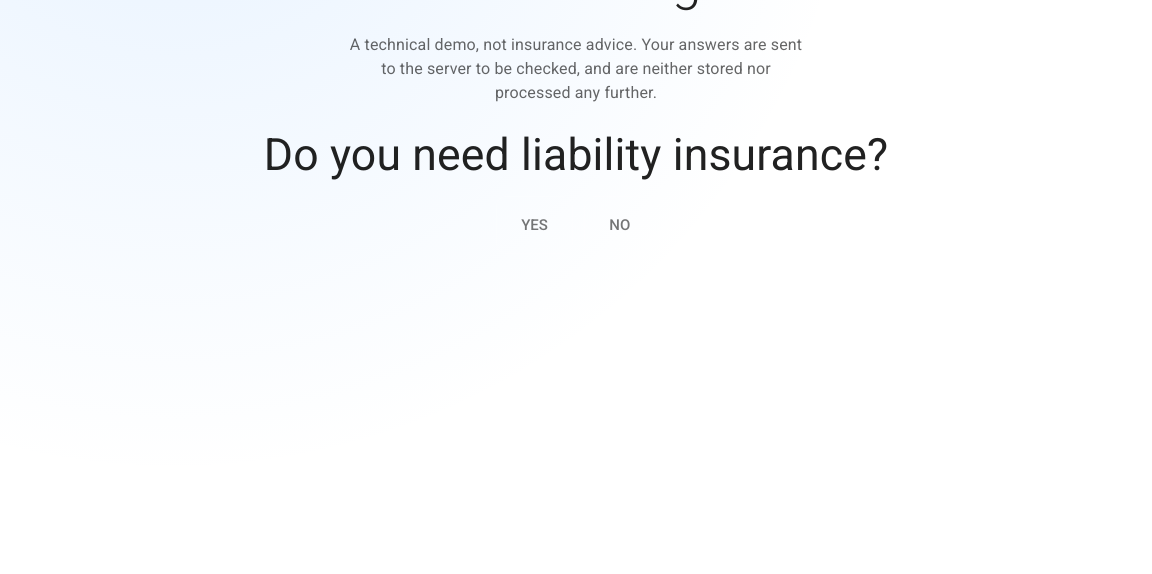
Test: InsuranceChat › renders the configuration from the response, not from local state
Click the button "Yes" at [534, 225], box [496, 196, 573, 254]
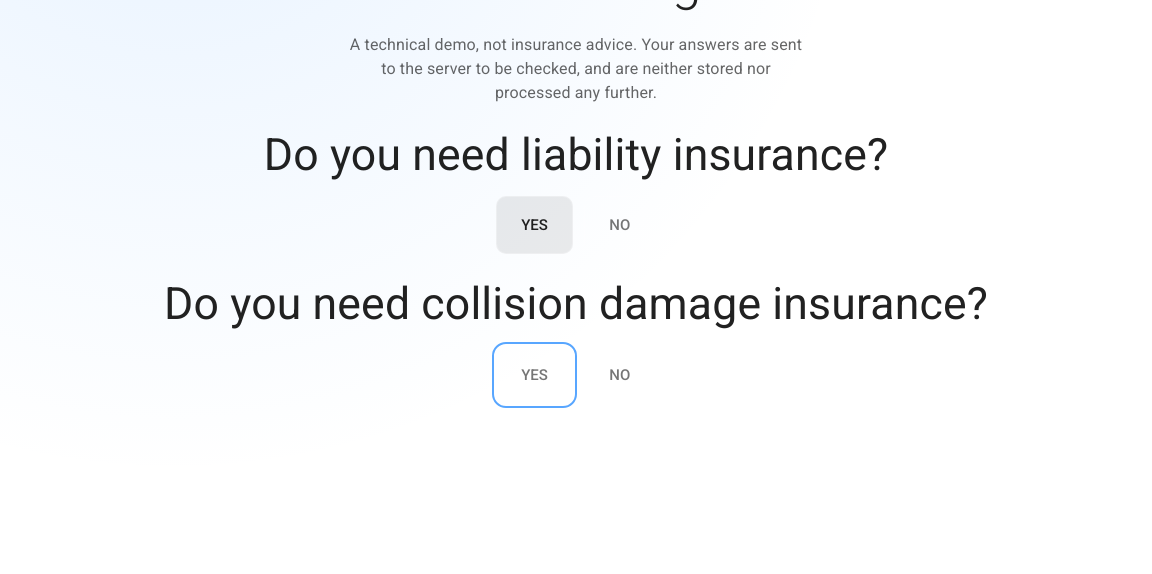
Click the button "Yes" below "Do you need collision damage insurance?" at [534, 375], box [496, 346, 573, 404]
(page scrolled)
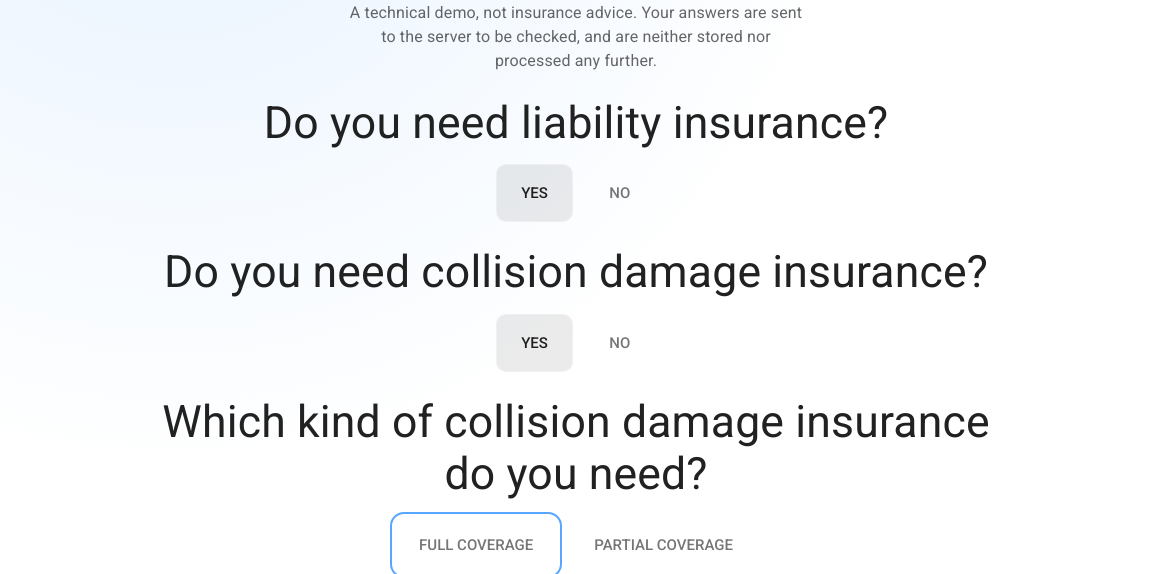
Click the button "Full coverage" at [476, 545], box [394, 516, 558, 573]
(page scrolled)
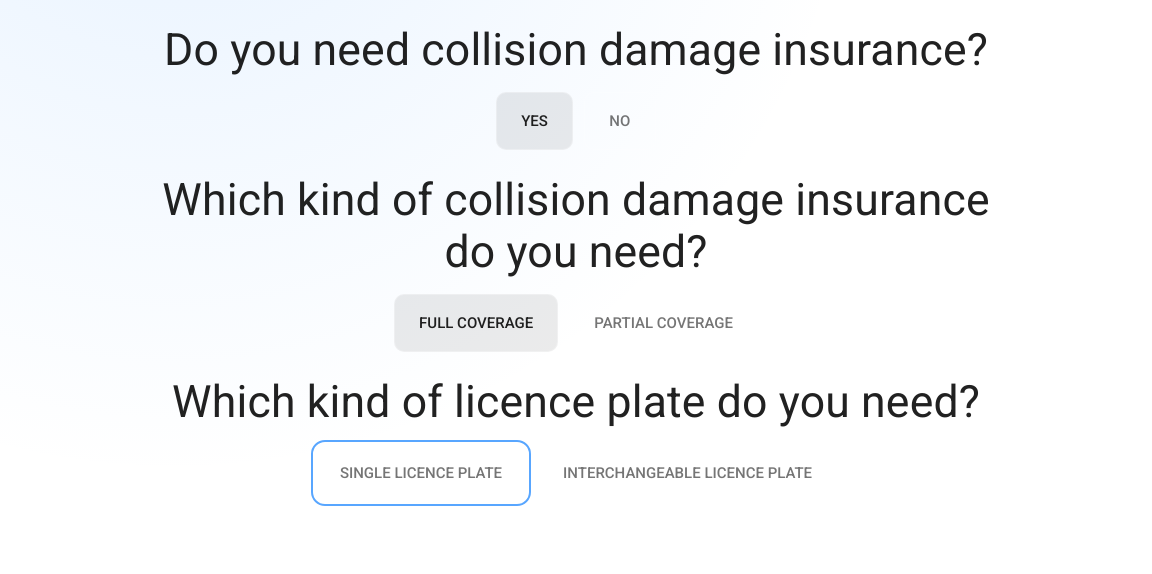
Click the button "Single licence plate" at [421, 473], box [315, 444, 527, 502]
(page scrolled)
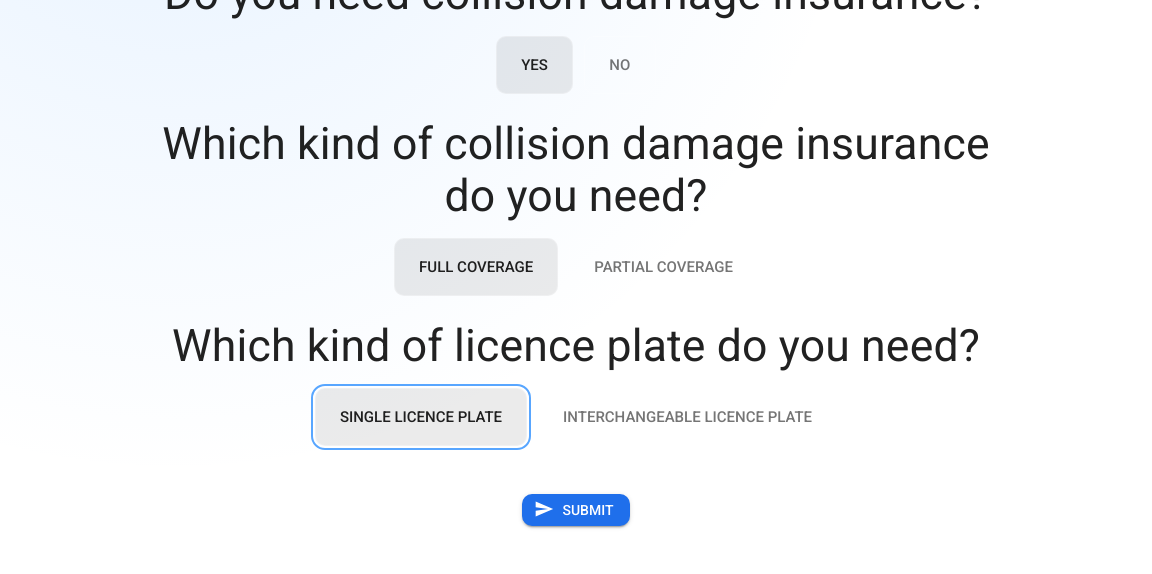
Click the button "Submit" at [576, 510], box [522, 494, 630, 526]
(page scrolled)
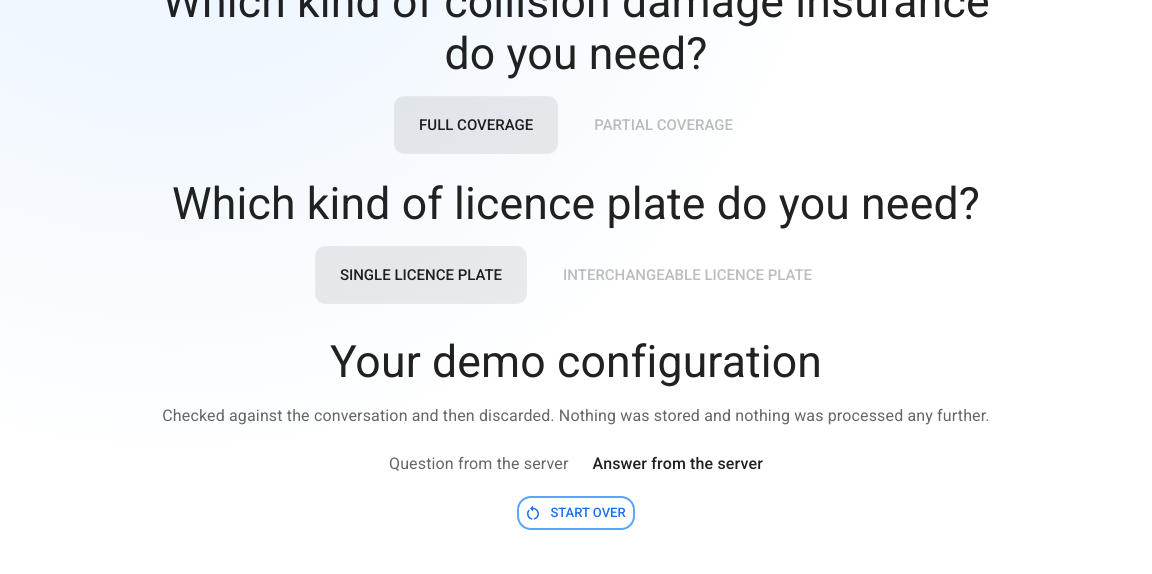
Check: the text "Question from the server" is shown, box [389, 452, 568, 476]
Check: the text "Answer from the server" is shown, box [592, 452, 763, 476]
